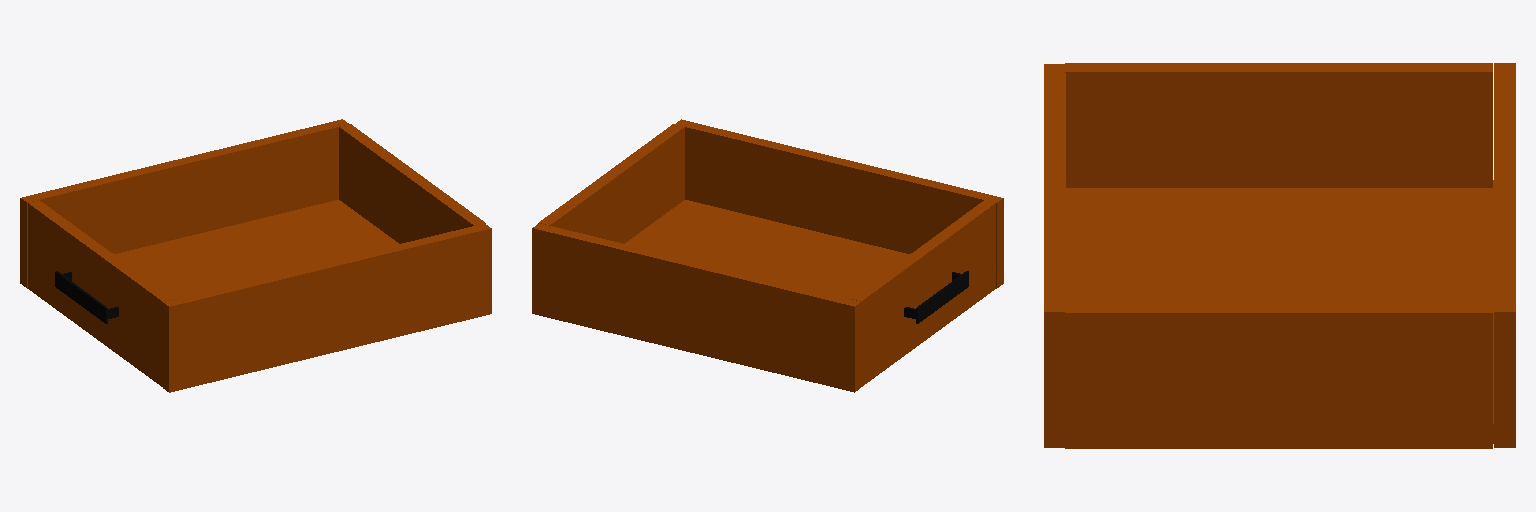
URDF robot description (stove_table_drawer_right):
<?xml version="1.0"?>

<robot name="stove_table_drawer_right">
  <link name="stove_table_drawer_right_frame">
    <visual>
      <geometry>
        <mesh filename="package://kitchen_context/models/stove_table/meshes/stove_drawer.dae"/>
      </geometry>
    </visual>
  </link>
</robot>

--- What the picture shows (computed from the rendered views, not written in the file) ---
The picture shows the robot from 3 angles, left to right: view 1: azimuth 30°, elevation 25°; view 2: azimuth 150°, elevation 25°; view 3: azimuth 270°, elevation 25°; orthographic projection.
Robot: stove_table_drawer_right — 1 links, 0 joints (none); root link stove_table_drawer_right_frame; default pose: every joint at zero.
Visible links, largest first — view 1: stove_table_drawer_right_frame; view 2: stove_table_drawer_right_frame; view 3: stove_table_drawer_right_frame.
Boxes of the visible links, x1,y1,x2,y2 form: stove_table_drawer_right_frame: (20, 119, 491, 392); stove_table_drawer_right_frame: (532, 119, 1003, 392); stove_table_drawer_right_frame: (1044, 63, 1515, 448).
Bounding box of the posed robot: 0.5764 × 0.4399 × 0.1404 m (x, y, z).
Meshes: 1 distinct files referenced, 1 mesh visuals loaded (1 Collada DAE).